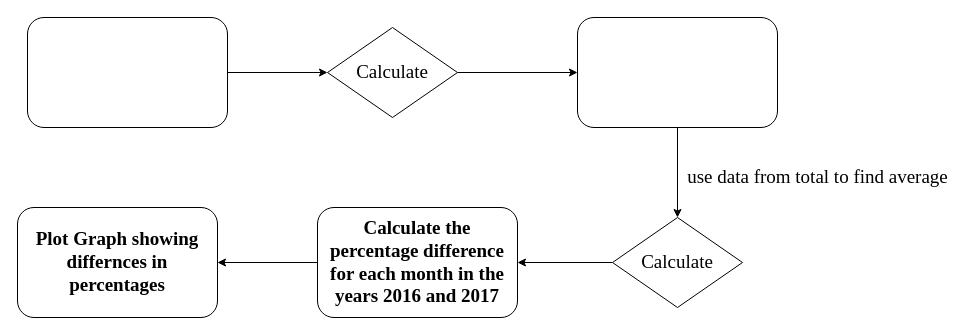
Some shapes in this 975 by 335 pixel diagram are drawn without their labels. Each missing label, with the box of its shape:
Calculate average total Cyclist per month (For 2016 & 2017): (576, 16, 778, 128)
Calculate total Cyclist on the roads per month (For 2016 & 2017): (26, 16, 228, 128)
